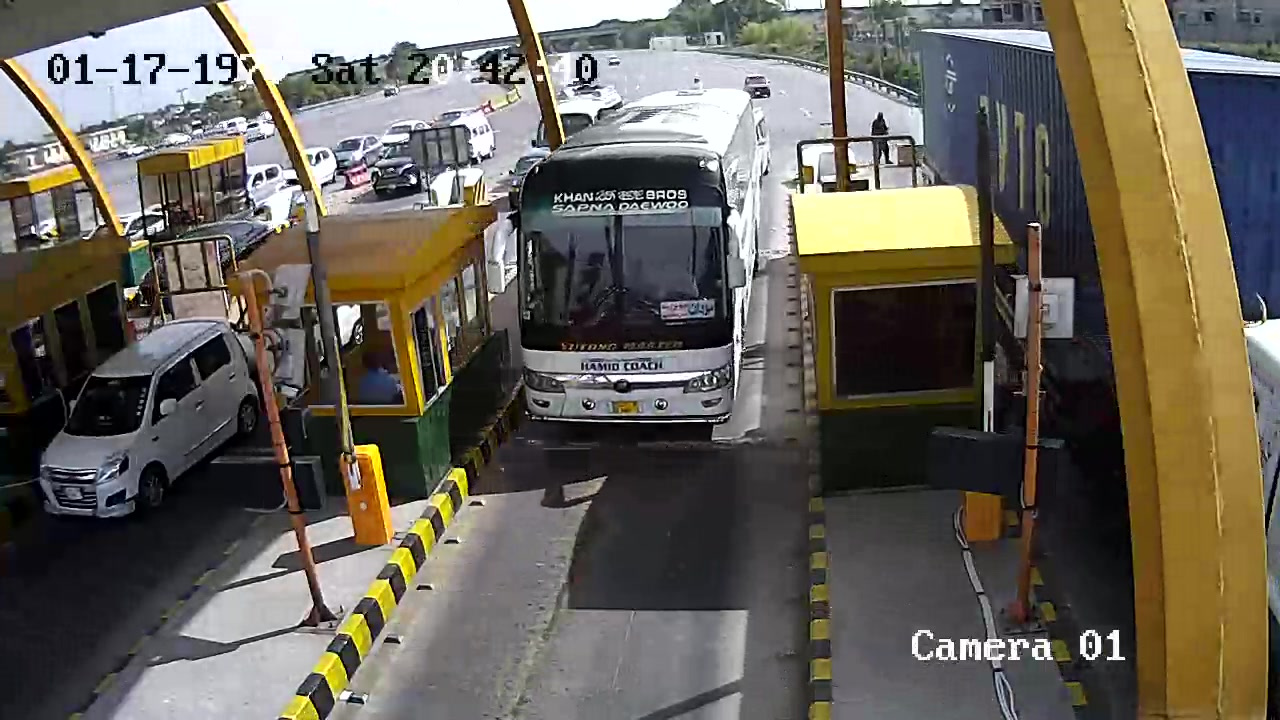F4: (515, 86, 765, 442)
